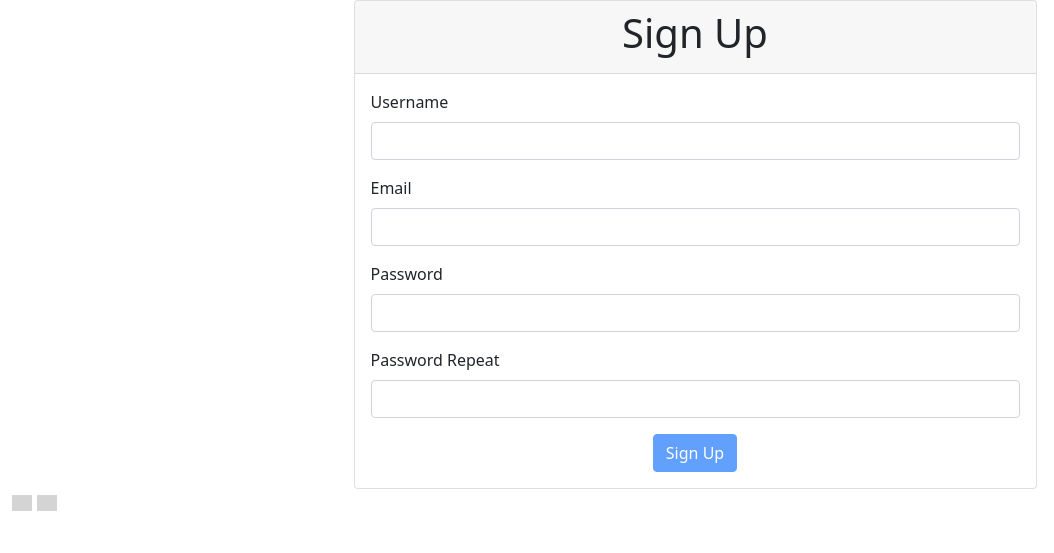
Sign Up Page › Interactions › displays Password cannot be null for password
In the field labelled "Username": (695, 141) [370,122,1020,160], type "ashish kapoor"
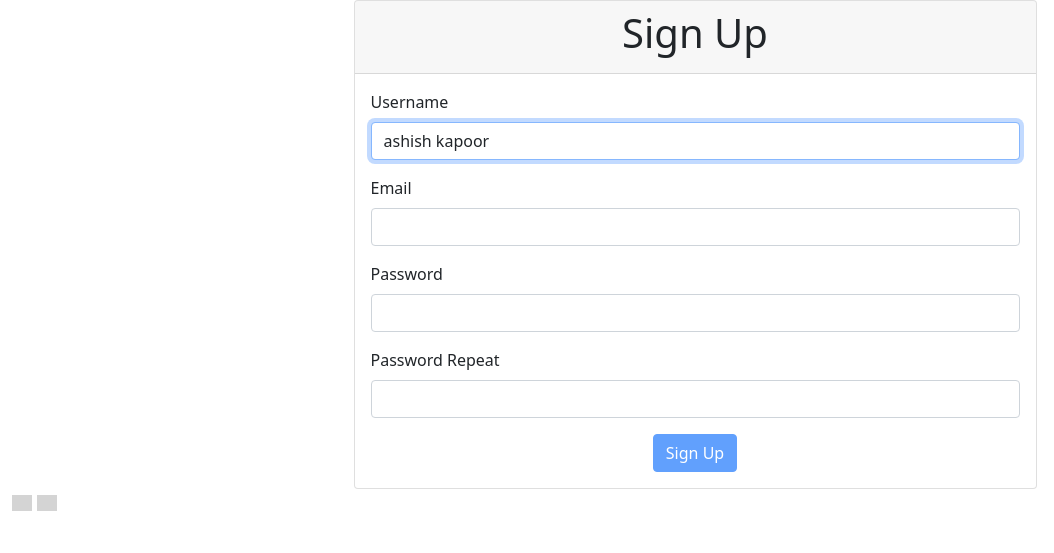
In the field labelled "Email": (695, 227) [370,208,1020,246], type "ashish@kapoor.com"
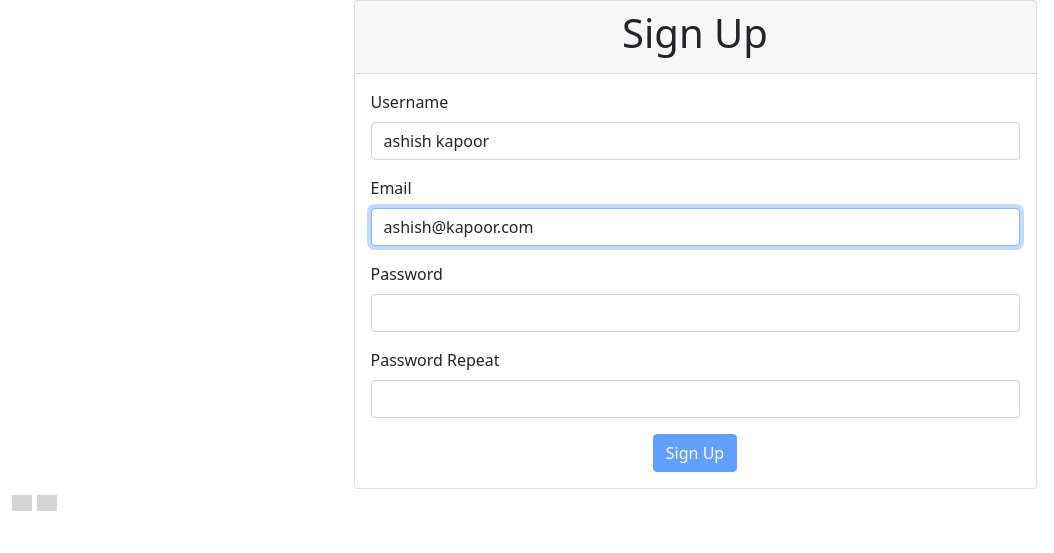
In the password field labelled "Password": (695, 313) [370,294,1020,332], type "P4ssword"
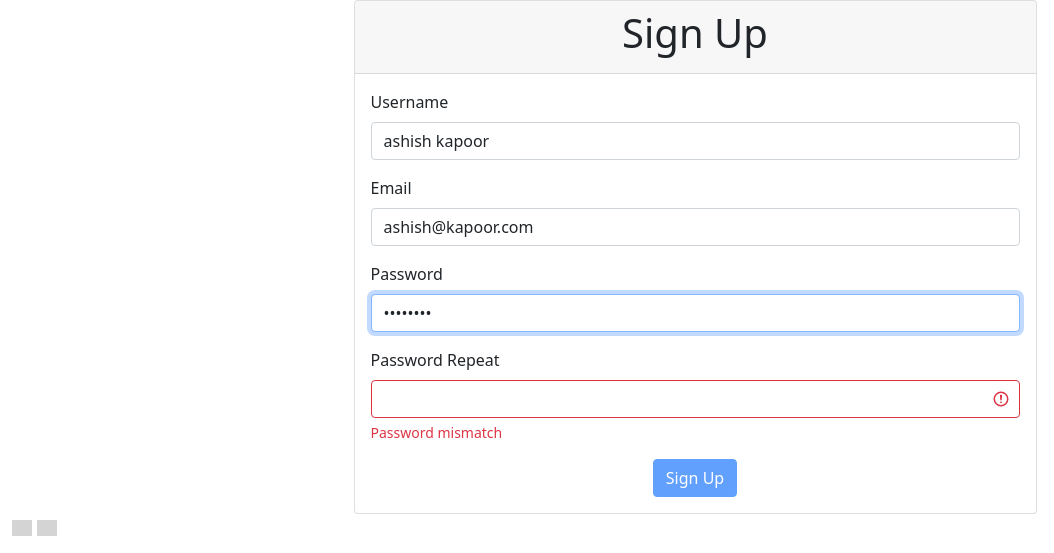
In the password field labelled "Password Repeat": (695, 399) [370,380,1020,418], type "P4ssword"
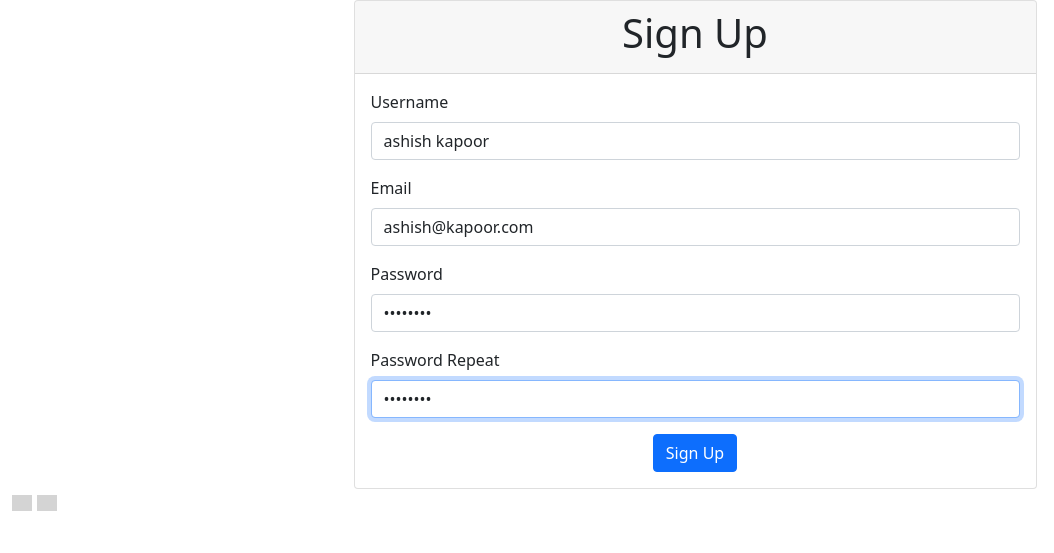
Click the button: click(695, 453) [653,434,737,472]
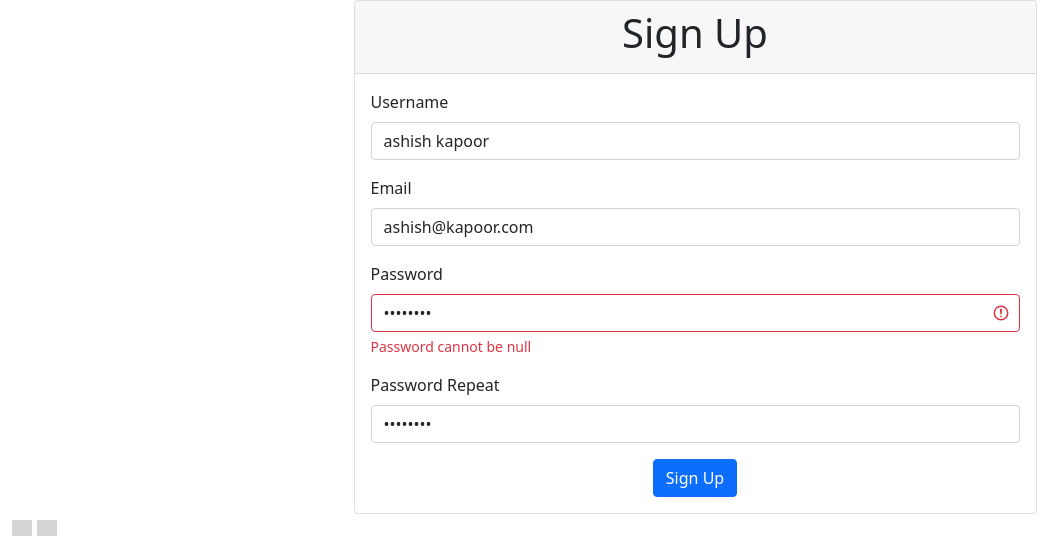
Now the text "Password cannot be null" is shown, box [370,337,531,356]
